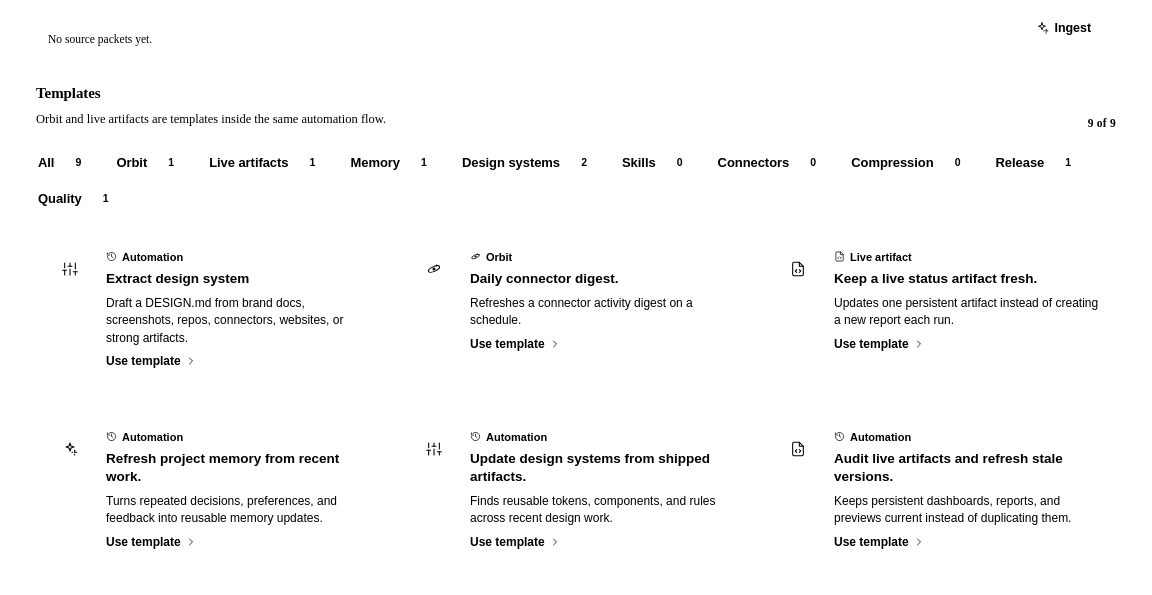
TasksView automation templates › shows daemon automation templates and seeds the create modal
(page scrolled)
Click the button "Extract design system": (212, 319) [36,235,388,403]
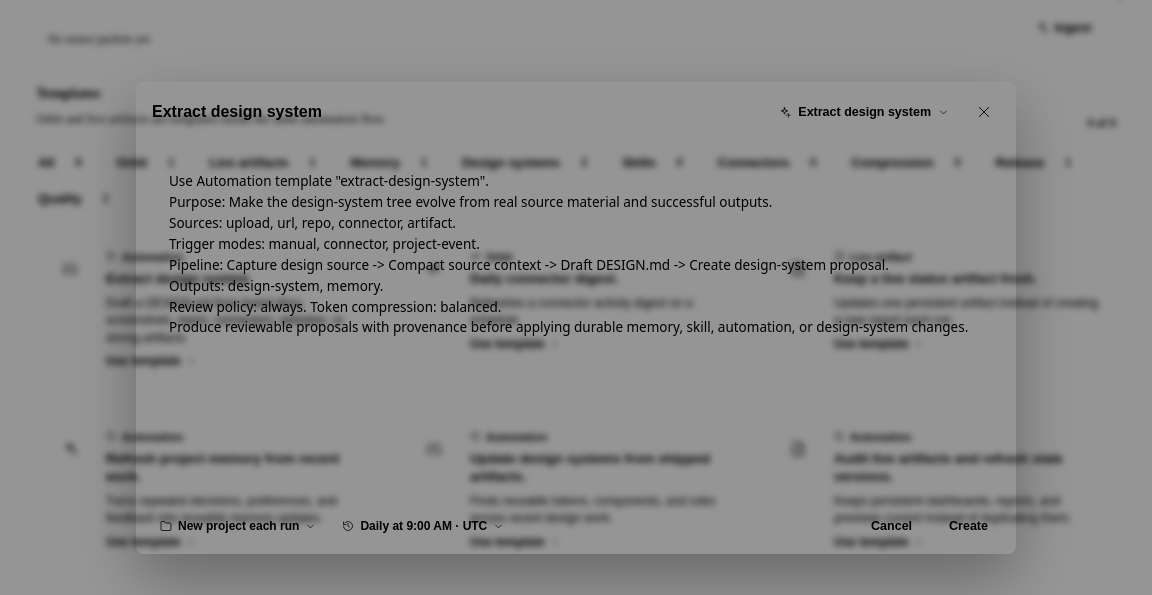
Now the field named "Automation title" holds "Extract design system", box [152,97,755,127]
